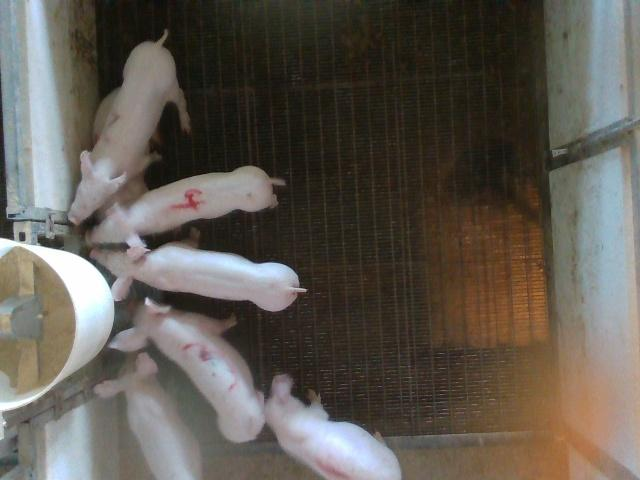pig-1: (265, 375, 401, 479)
pig-2: (69, 32, 190, 223)
pig-3: (110, 299, 265, 442)
pig-4: (86, 166, 284, 248)
